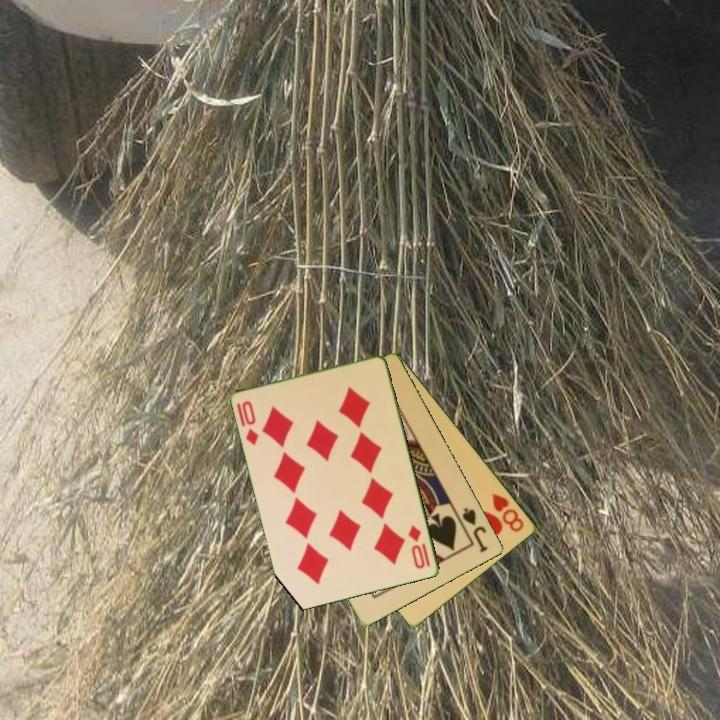10d: (405, 521, 434, 572), (239, 397, 262, 448)
8h: (489, 490, 527, 535)
Js: (459, 504, 491, 555)
